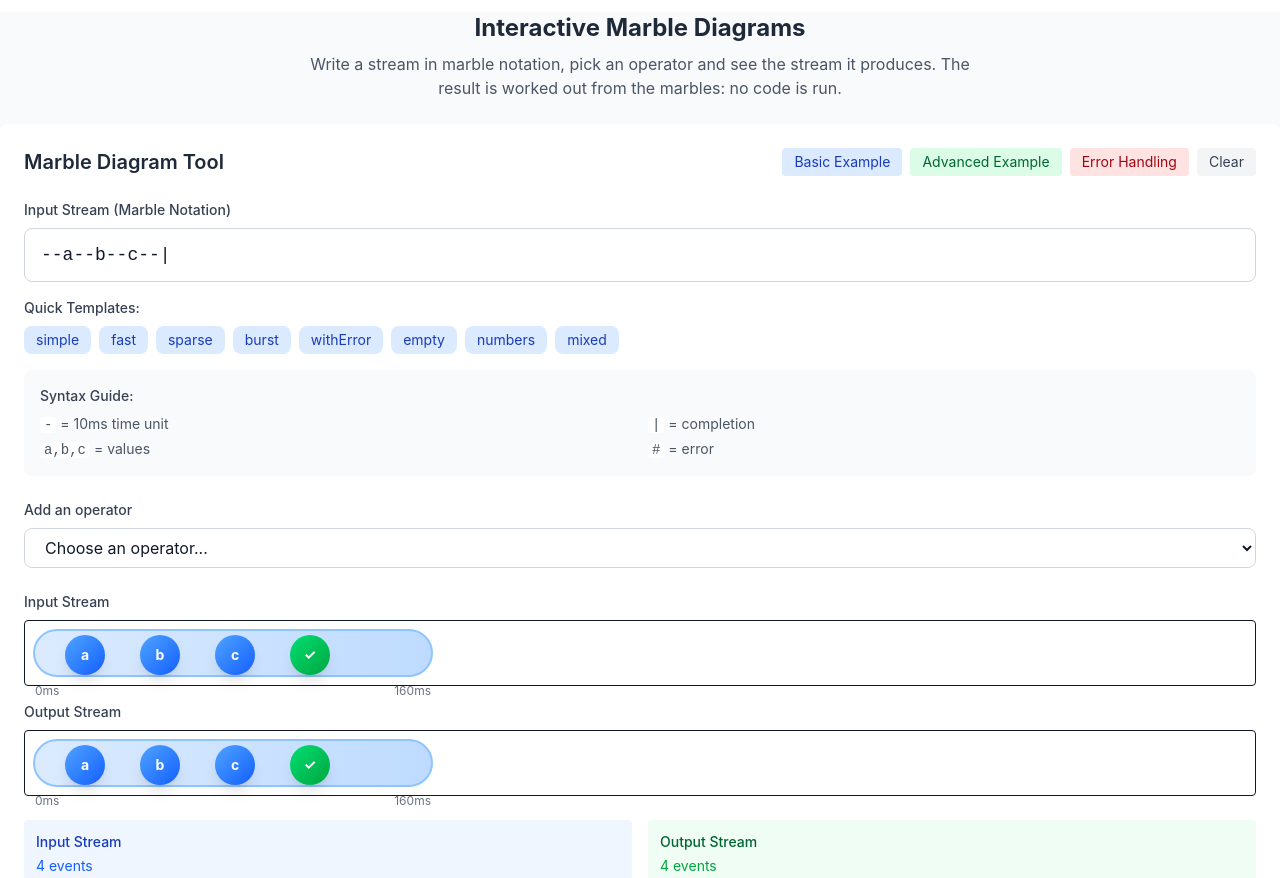
Test case: MarbleDiagramTool › Clear empties the text box, the chain and the diagram
Click the button "Advanced Example".
click(986, 162)  # box [910, 148, 1062, 176]
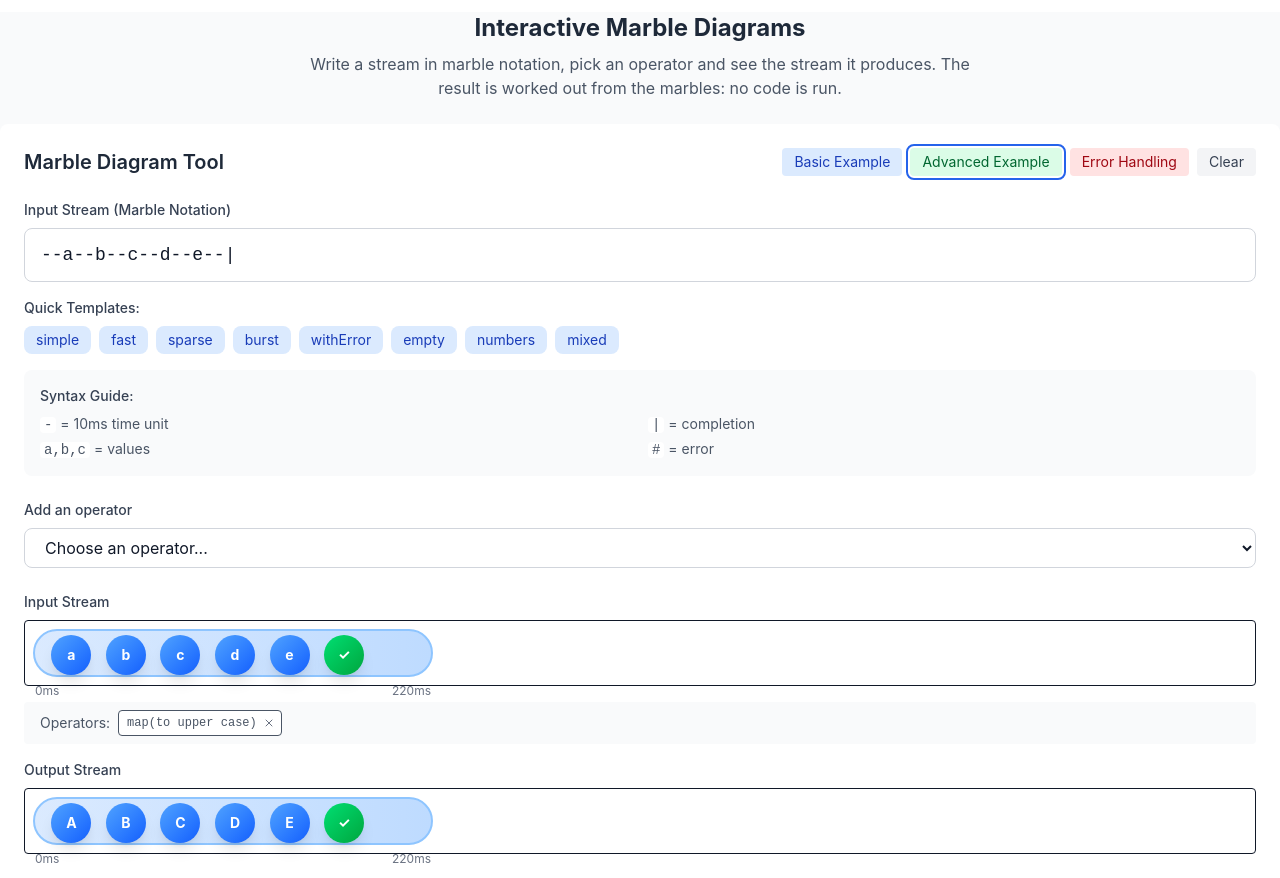
Click the button "Clear".
click(1226, 162)  # box [1197, 148, 1256, 176]
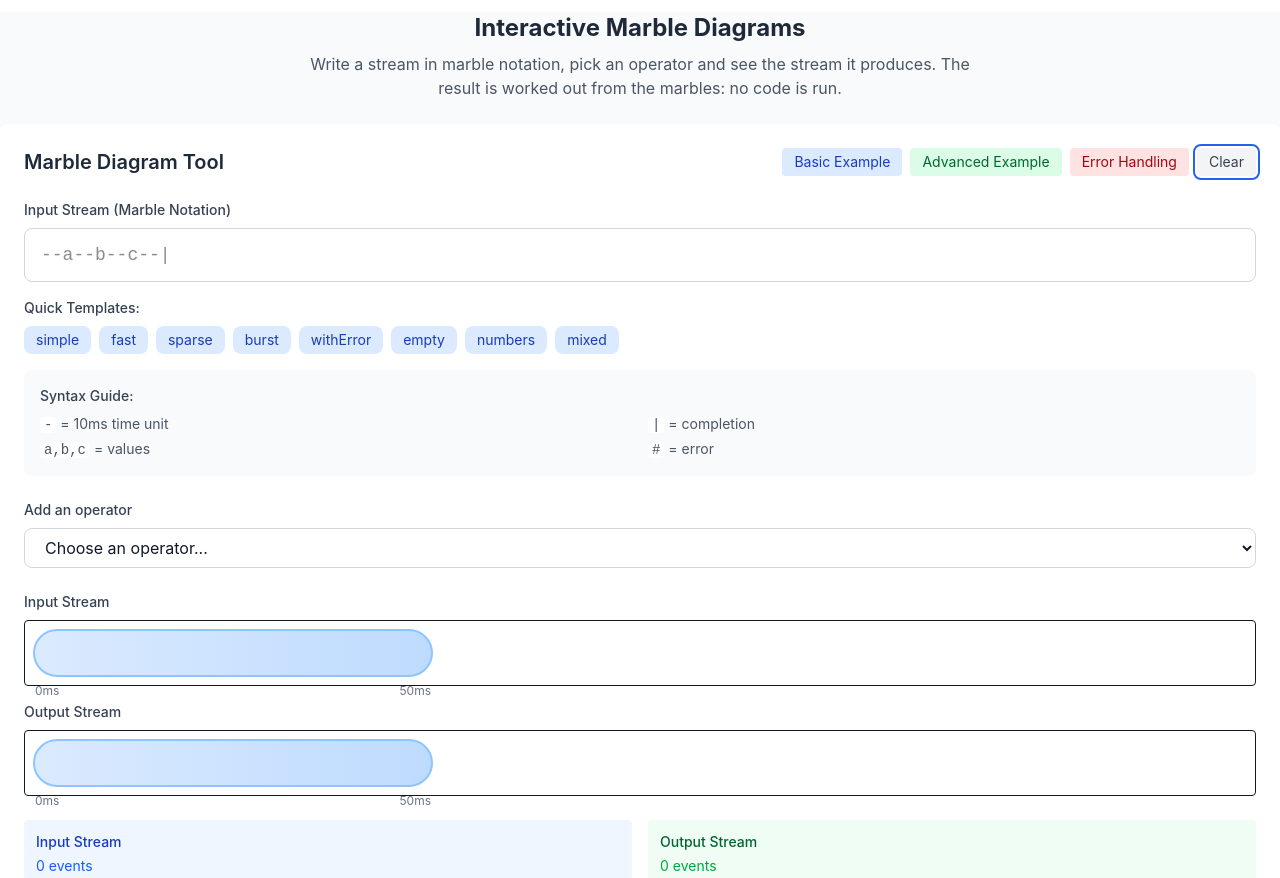
Expected: the list "operators" is not shown
Expected: the field labelled "Input Stream (Marble Notation)" is empty, [24, 228, 1256, 282]
